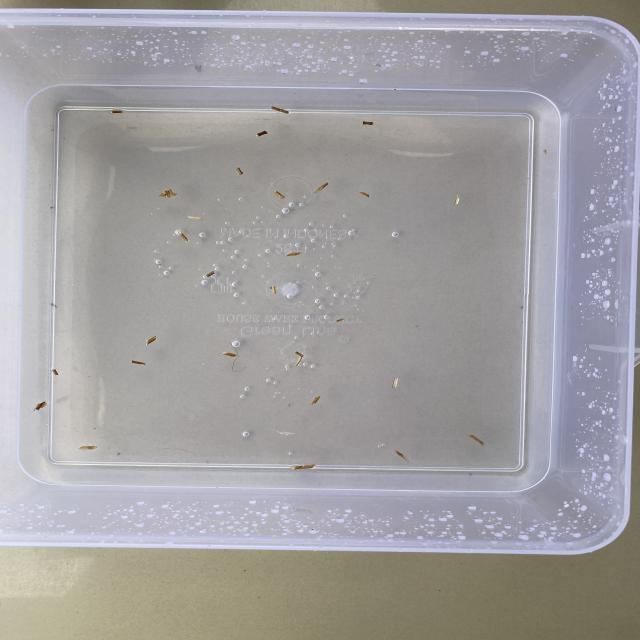Wereng: (465, 430, 489, 448), (176, 228, 196, 244), (219, 347, 244, 359), (313, 178, 331, 194), (390, 448, 410, 461), (268, 284, 286, 298), (199, 268, 223, 278), (273, 189, 290, 203), (74, 441, 97, 451), (358, 188, 377, 200), (282, 248, 304, 258), (293, 348, 304, 367), (267, 105, 293, 113), (292, 464, 321, 471), (161, 190, 180, 199), (108, 106, 125, 116), (186, 212, 203, 222), (34, 401, 49, 412), (310, 392, 321, 406), (130, 358, 147, 367), (361, 118, 376, 128), (256, 129, 271, 139), (49, 366, 61, 378), (146, 334, 160, 344), (390, 375, 399, 389), (453, 191, 460, 207), (232, 167, 244, 176), (334, 319, 350, 325)
